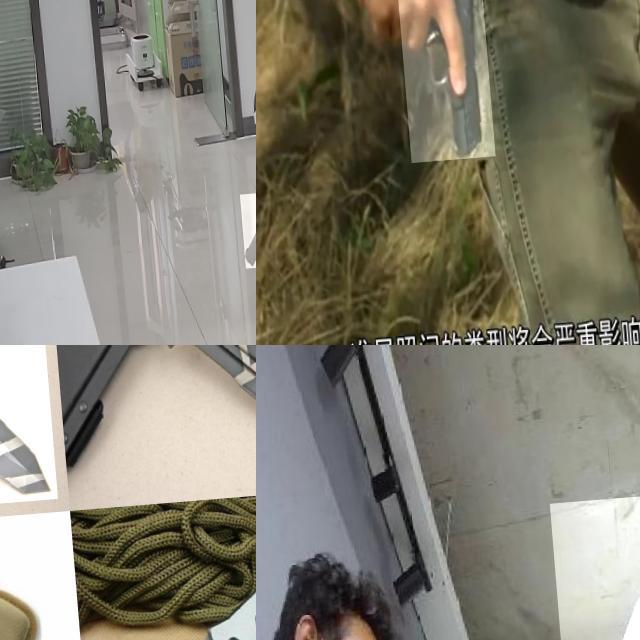-: (0, 345, 109, 517), (154, 345, 256, 495), (543, 501, 640, 640)
gun-knife-thesis - v11 Yolov5 augmented: (389, 0, 488, 166), (234, 195, 256, 273)
